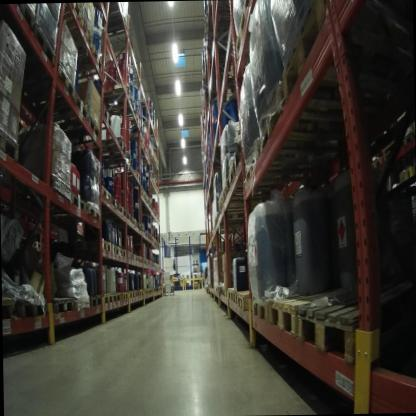pallet: (280, 0, 402, 107), (254, 77, 386, 160), (298, 286, 412, 358), (267, 281, 344, 352), (242, 139, 347, 188), (27, 85, 91, 127), (38, 109, 102, 147), (233, 7, 269, 70), (18, 62, 78, 99), (19, 176, 75, 213), (225, 157, 278, 191), (70, 43, 106, 88), (51, 21, 97, 50), (86, 134, 129, 165), (231, 143, 269, 178), (16, 291, 50, 325), (6, 4, 39, 38), (37, 193, 88, 213), (216, 191, 267, 211), (0, 121, 22, 166), (33, 19, 55, 64), (94, 10, 132, 34), (97, 88, 131, 113), (50, 3, 84, 25), (250, 295, 270, 329), (223, 182, 265, 198), (49, 291, 78, 314), (214, 209, 250, 226), (83, 235, 112, 256), (236, 290, 259, 315), (2, 292, 18, 323), (72, 292, 92, 313), (112, 169, 143, 182), (95, 184, 112, 205), (113, 113, 140, 126), (86, 200, 103, 220), (88, 288, 103, 308), (125, 131, 144, 145), (102, 289, 114, 308), (240, 0, 261, 10), (225, 286, 236, 305), (111, 286, 122, 304), (117, 201, 127, 217), (128, 98, 138, 114), (139, 117, 152, 129), (110, 194, 120, 209), (233, 288, 241, 305), (125, 81, 134, 96), (111, 242, 119, 258), (221, 284, 229, 300), (125, 206, 132, 224), (122, 288, 129, 304), (118, 247, 126, 261), (126, 249, 134, 262), (126, 290, 136, 300), (130, 214, 137, 228), (135, 219, 142, 231), (162, 290, 175, 296), (133, 288, 140, 299), (141, 254, 148, 265), (149, 202, 154, 215), (136, 193, 145, 200), (133, 252, 138, 264), (144, 226, 149, 238), (139, 286, 144, 297), (146, 257, 151, 268), (137, 253, 143, 262), (142, 198, 148, 207), (148, 229, 152, 242), (144, 287, 149, 297), (147, 287, 153, 295), (142, 226, 146, 237), (138, 186, 144, 193), (144, 189, 148, 199), (148, 196, 152, 204), (148, 203, 151, 212)
